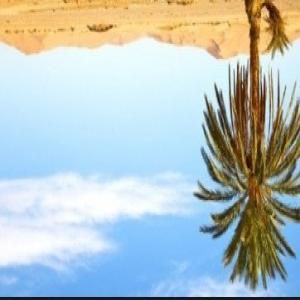palm tree: (192, 0, 299, 291)
